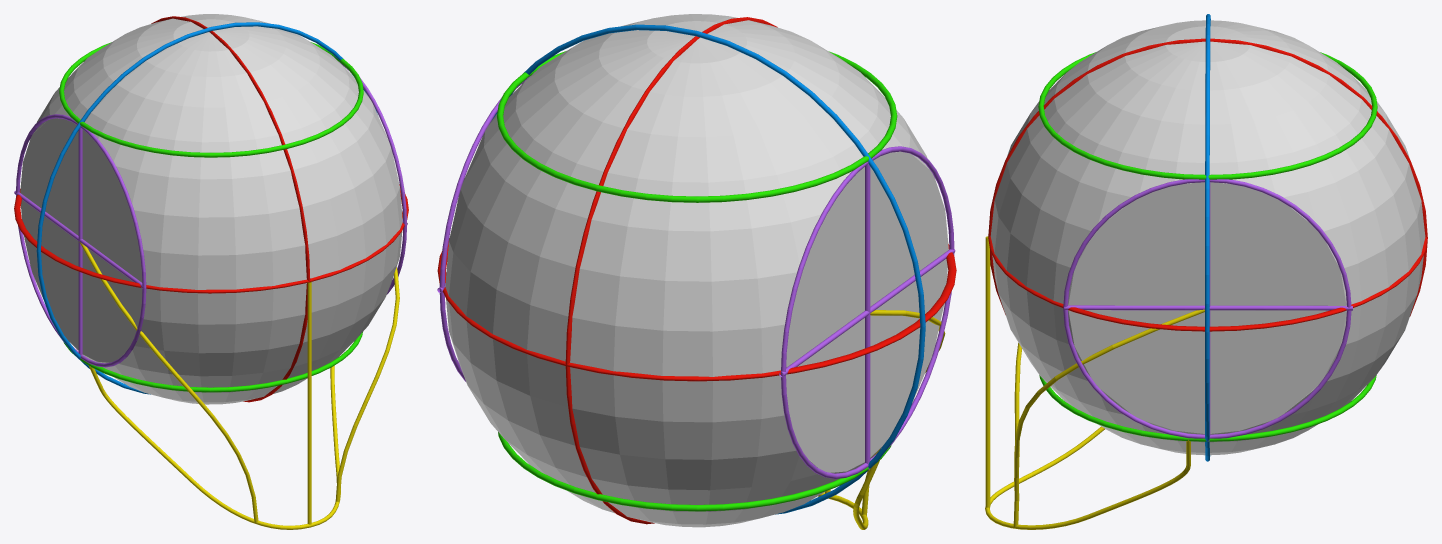
File: loomis_head_with_cheekbones.glb
The picture shows the model from 3 angles, left to right: view 1: azimuth 30°, elevation 25°; view 2: azimuth 150°, elevation 25°; view 3: azimuth 270°, elevation 25°; orthographic projection. The views are drawn at different scales.
Parts seen in each view (by area): view 1: Object_3, Object_2, Object_11, Object_5, Object_8, Object_6, Object_13, Object_9, Object_7, Object_4, Object_12, Object_10; view 2: Object_3, Object_2, Object_5, Object_8, Object_6, Object_7, Object_9, Object_4, Object_10, Object_13, Object_11; view 3: Object_3, Object_10, Object_5, Object_7, Object_6, Object_2, Object_11, Object_9, Object_4, Object_13, Object_12.
Part boxes in pixels (<box>): Object_3: <box>20,14,402,404</box>; Object_2: <box>36,22,377,394</box>; Object_11: <box>79,242,399,522</box>; Object_5: <box>59,42,363,157</box>; Object_8: <box>16,114,146,367</box>; Object_6: <box>14,184,408,293</box>; Object_13: <box>88,365,340,529</box>; Object_9: <box>14,127,407,355</box>; Object_7: <box>151,16,310,402</box>; Object_4: <box>63,332,362,392</box>; Object_12: <box>307,281,311,524</box>; Object_10: <box>338,61,406,294</box>; Object_3: <box>445,14,948,527</box>; Object_2: <box>492,24,925,514</box>; Object_5: <box>497,51,897,202</box>; Object_8: <box>781,146,954,478</box>; Object_6: <box>437,238,956,381</box>; Object_7: <box>565,17,777,524</box>; Object_9: <box>437,163,955,469</box>; Object_4: <box>498,432,891,511</box>; Object_10: <box>439,76,529,381</box>; Object_13: <box>818,459,880,529</box>; Object_11: <box>861,310,945,515</box>; Object_3: <box>990,20,1425,455</box>; Object_10: <box>1063,179,1351,438</box>; Object_5: <box>1038,52,1377,179</box>; Object_7: <box>988,38,1427,316</box>; Object_6: <box>988,236,1427,331</box>; Object_2: <box>1205,14,1210,461</box>; Object_11: <box>1013,309,1204,527</box>; Object_9: <box>1064,182,1352,441</box>; Object_4: <box>1039,375,1376,441</box>; Object_13: <box>985,426,1190,529</box>; Object_12: <box>985,236,990,507</box>.
Bounding box in the file's own units: 3.1 × 3.64 × 3.07.
